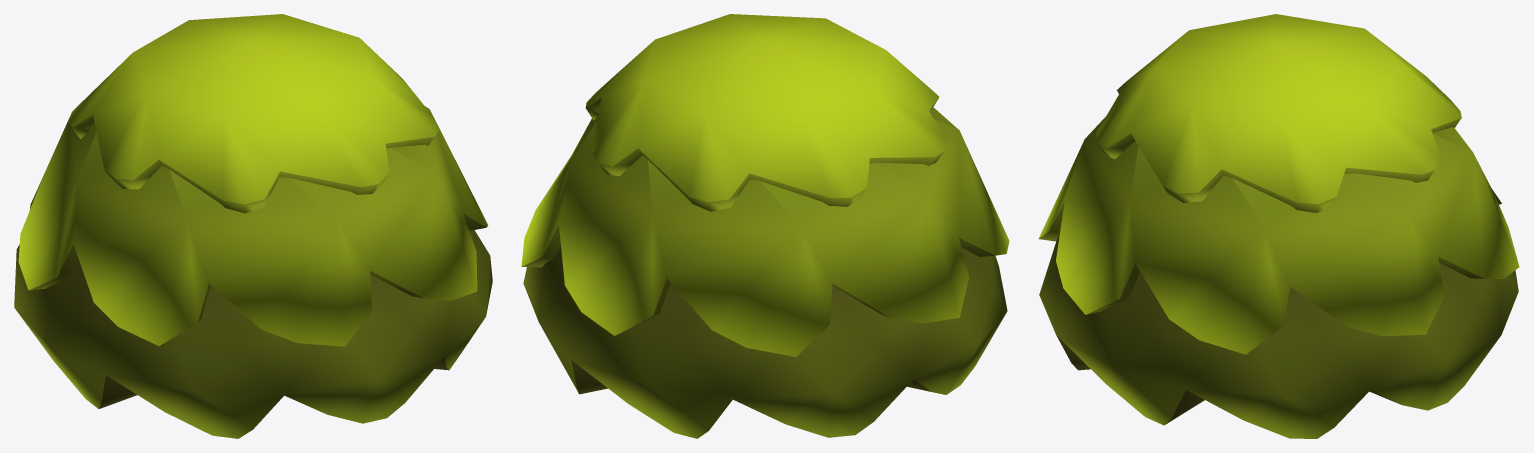
The model's file is 1.100_SanFrancisco_bush_2.glb.
The picture shows the model from 3 angles, left to right: view 1: azimuth 30°, elevation 25°; view 2: azimuth 150°, elevation 25°; view 3: azimuth 270°, elevation 25°; orthographic projection.
Parts seen in each view (by area): view 1: 1.100_SanFrancisco_bush_2; view 2: 1.100_SanFrancisco_bush_2; view 3: 1.100_SanFrancisco_bush_2.
Part boxes in pixels (left/top/right/bottom): 1.100_SanFrancisco_bush_2: left=14, top=14, right=492, bottom=438; 1.100_SanFrancisco_bush_2: left=521, top=14, right=1009, bottom=438; 1.100_SanFrancisco_bush_2: left=1038, top=14, right=1519, bottom=438.
Bounding box in the file's own units: 15.42 × 11.01 × 15.42.
Materials: 1 (1 with a texture image).
